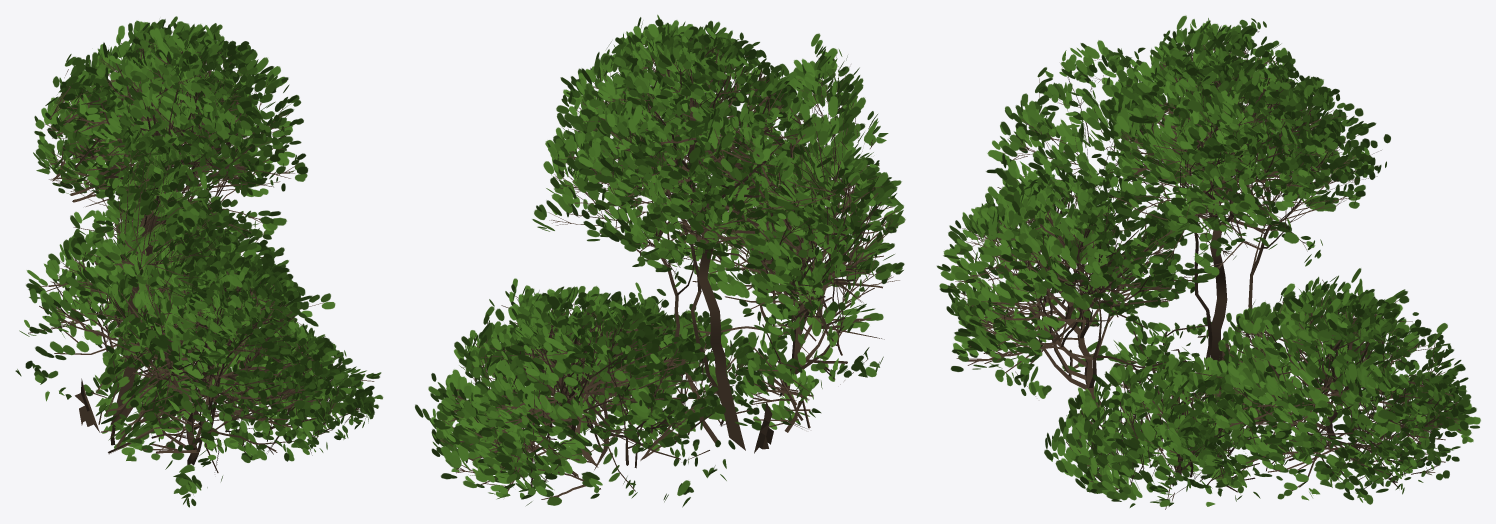
3 renders of one model, left to right at view 1: azimuth 30°, elevation 25°; view 2: azimuth 150°, elevation 25°; view 3: azimuth 270°, elevation 25°, orthographic. The views are drawn at different scales.
Parts seen in each view (by area): view 1: oak 01.001_trunk_Mat.001_0.175; view 2: oak 01.001_trunk_Mat.001_0.175; view 3: oak 01.001_trunk_Mat.001_0.175.
Boxes of the visible parts, x1,y1,x2,y2 form: oak 01.001_trunk_Mat.001_0.175: [15, 16, 383, 507]; oak 01.001_trunk_Mat.001_0.175: [415, 14, 905, 507]; oak 01.001_trunk_Mat.001_0.175: [937, 15, 1480, 509].
Bounding box in the file's own units: 3.56 × 4.78 × 5.7.
Materials: 2 (1 with a texture image).
